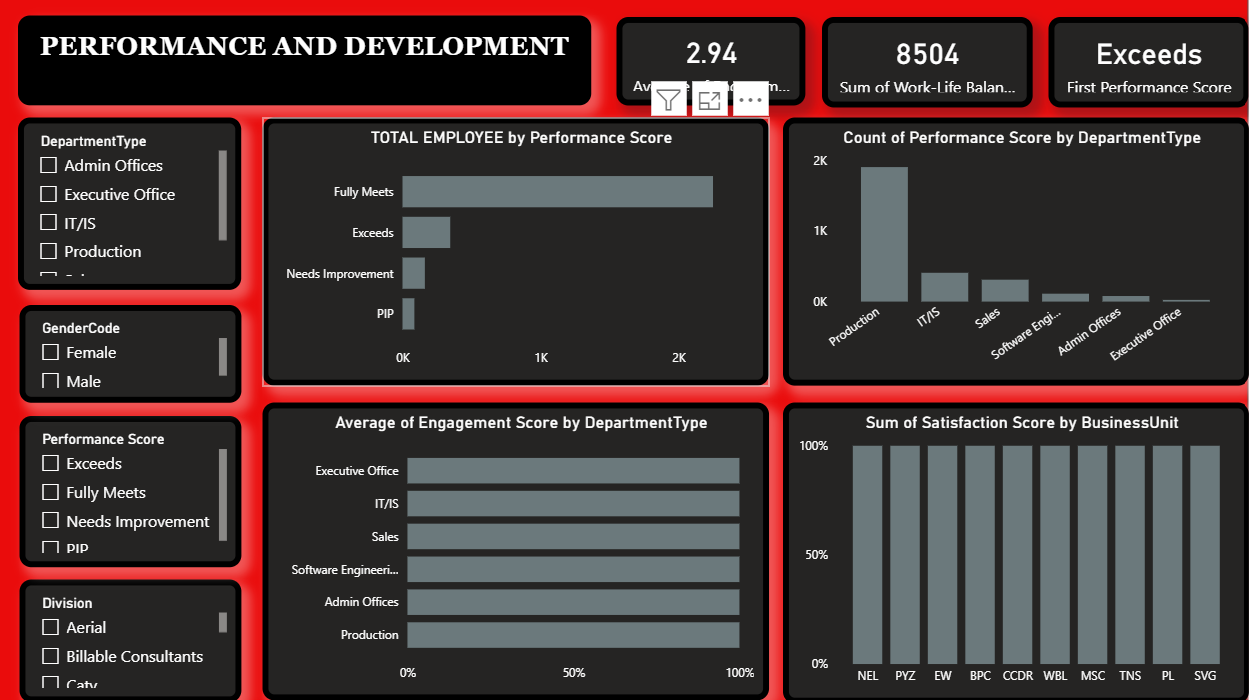

The dashboard page shown, as its layout file describes it:
{"tool":"powerbi","page":{"name":"Performance & Development","canvas":[1280,720],"ordinal":3},"visuals":[{"type":"shape","box":[0,0,1279.5,719.2],"z":0},{"type":"textbox","box":[36.3,25.7,578.4,90.9],"z":1000},{"type":"slicer","fields":{"Values":["Cleaned_HR_Data_Analysis.Division"]},"box":[37.9,595.1,224.1,124.2],"z":2000},{"type":"slicer","fields":{"Values":["Cleaned_HR_Data_Analysis.DepartmentType"]},"box":[36.3,128.7,225.6,174.1],"z":3000},{"type":"slicer","fields":{"Values":["Cleaned_HR_Data_Analysis.Performance Score"]},"box":[37.9,430,224.1,152.9],"z":4000},{"type":"slicer","fields":{"Values":["Cleaned_HR_Data_Analysis.GenderCode"]},"box":[37.9,318,224.1,98.4],"z":5000},{"type":"card","fields":{"Values":["Sum(Cleaned_HR_Data_Analysis.Work-Life Balance Score)"]},"box":[848,26.6,212.4,91.3],"z":6000},{"type":"card","fields":{"Values":["Avg(Cleaned_HR_Data_Analysis.Engagement Score)"]},"box":[640.6,26.6,190.8,89.6],"z":7000},{"type":"card","fields":{"Values":["Min(Cleaned_HR_Data_Analysis.Performance Score)"]},"box":[1077,26.6,202.5,91.3],"z":8000},{"type":"barChart","fields":{"Category":["Cleaned_HR_Data_Analysis.Performance Score"],"Y":["Cleaned_HR_Data_Analysis.TOTAL EMPLOYEE"]},"box":[283.8,129.4,511.1,270.5],"z":9000},{"type":"columnChart","fields":{"Category":["Cleaned_HR_Data_Analysis.DepartmentType"],"Y":["CountNonNull(Cleaned_HR_Data_Analysis.Performance Score)"]},"box":[808.2,129.4,471.3,270.5],"z":10000},{"type":"hundredPercentStackedBarChart","fields":{"Y":["Avg(Cleaned_HR_Data_Analysis.Engagement Score)"],"Category":["Cleaned_HR_Data_Analysis.DepartmentType"]},"box":[283.8,416.5,511.1,300.4],"z":11000},{"type":"hundredPercentStackedColumnChart","fields":{"Y":["Sum(Cleaned_HR_Data_Analysis.Satisfaction Score)"],"Category":["Cleaned_HR_Data_Analysis.BusinessUnit"]},"box":[808.2,416.5,471.3,303.7],"z":12000}]}

Visuals, with their boxes on the page's 1280x720 design canvas (x1, y1, x2, y2). These are canvas units, not pixel positions in the 1249x700 screenshot, which may show the page scaled, cropped or inside an application window:
shape: 0 0 1280 719
textbox: 36 26 615 117
slicer - Cleaned_HR_Data_Analysis.Division: 38 595 262 719
slicer - Cleaned_HR_Data_Analysis.DepartmentType: 36 129 262 303
slicer - Cleaned_HR_Data_Analysis.Performance Score: 38 430 262 583
slicer - Cleaned_HR_Data_Analysis.GenderCode: 38 318 262 416
card - Sum(Cleaned_HR_Data_Analysis.Work-Life Balance Score): 848 27 1060 118
card - Avg(Cleaned_HR_Data_Analysis.Engagement Score): 641 27 831 116
card - Min(Cleaned_HR_Data_Analysis.Performance Score): 1077 27 1280 118
barChart - Cleaned_HR_Data_Analysis.Performance Score x Cleaned_HR_Data_Analysis.TOTAL EMPLOYEE: 284 129 795 400
columnChart - Cleaned_HR_Data_Analysis.DepartmentType x CountNonNull(Cleaned_HR_Data_Analysis.Performance Score): 808 129 1280 400
hundredPercentStackedBarChart - Avg(Cleaned_HR_Data_Analysis.Engagement Score) x Cleaned_HR_Data_Analysis.DepartmentType: 284 416 795 717
hundredPercentStackedColumnChart - Sum(Cleaned_HR_Data_Analysis.Satisfaction Score) x Cleaned_HR_Data_Analysis.BusinessUnit: 808 416 1280 720
